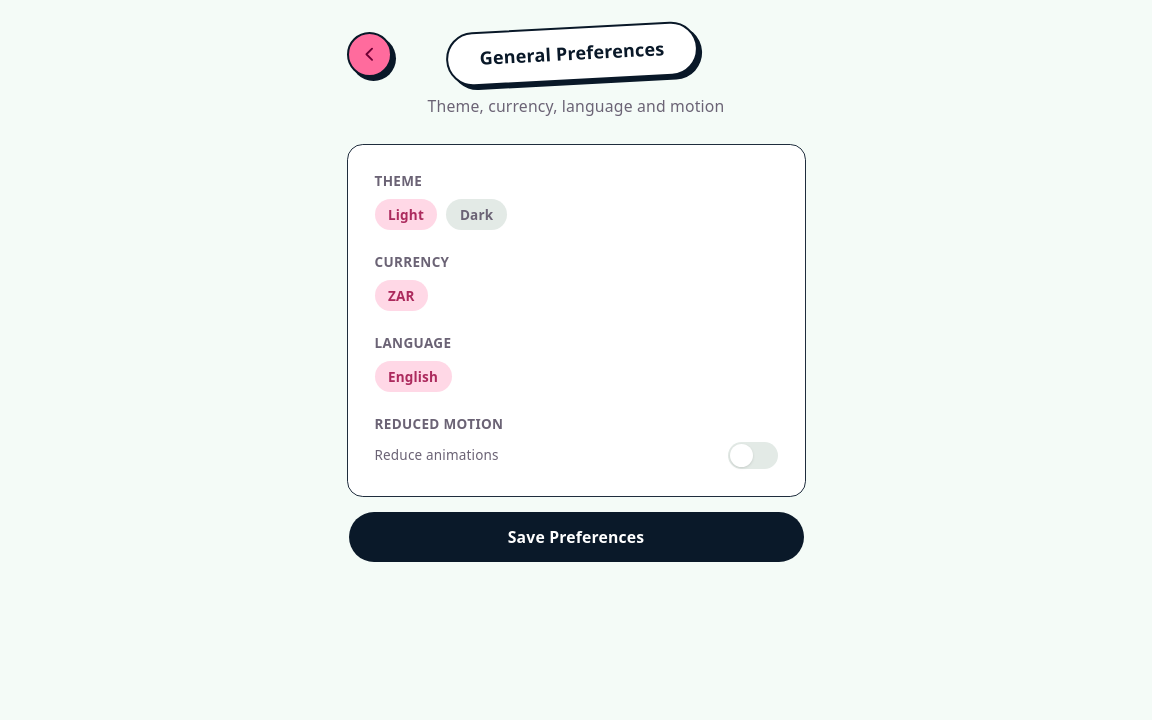
Test: SettingsPreferencesPage › saves the selected values through updatePreferences
Click the button "Dark" at point(477, 215), box [446, 199, 507, 230]
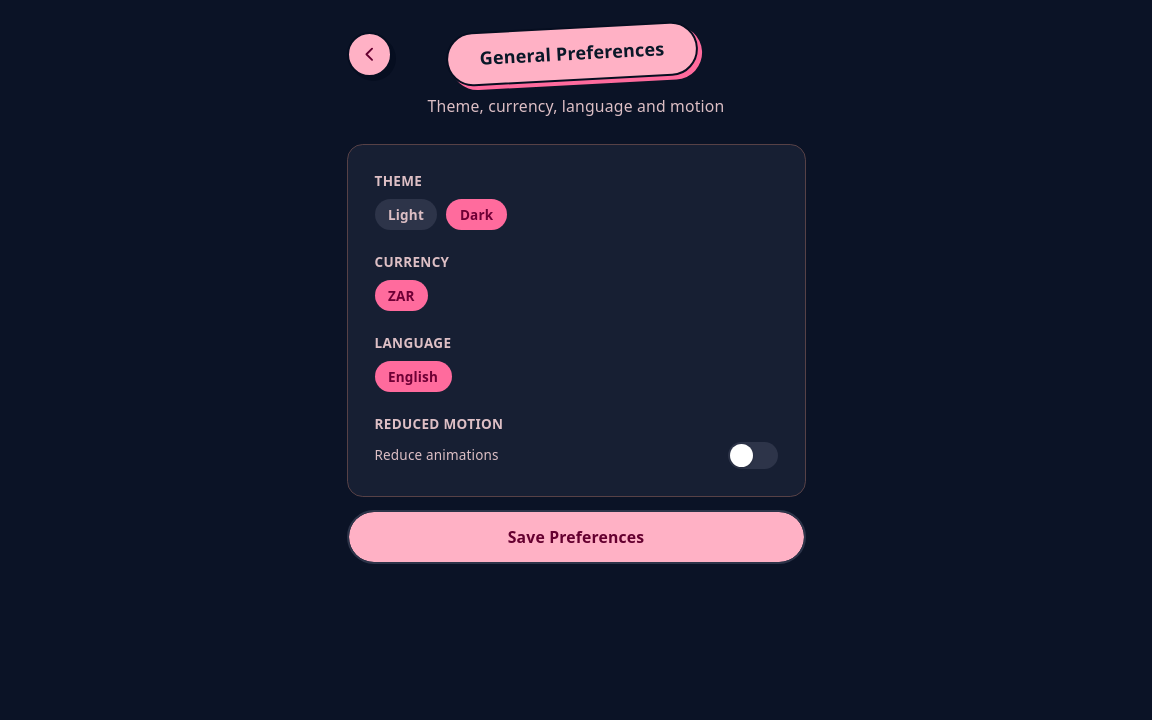
Click the switch named "reduced motion" at point(753, 455), box [728, 442, 778, 469]
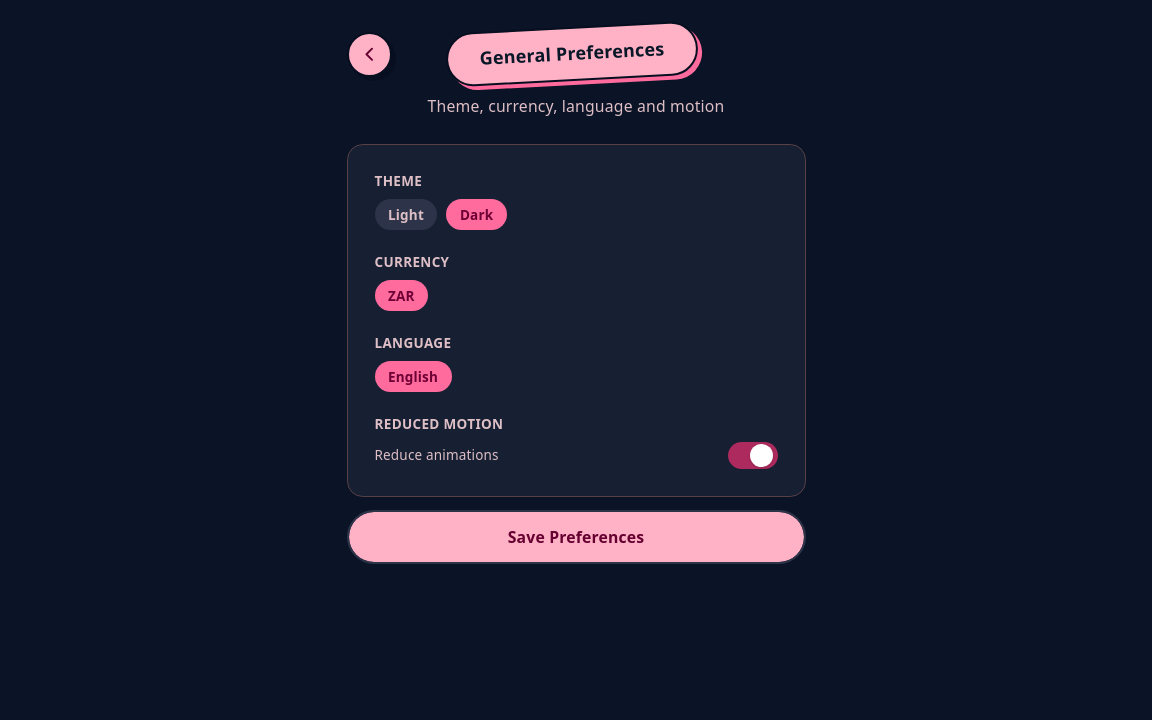
Click the button "Save Preferences" at point(576, 537), box [346, 510, 806, 564]
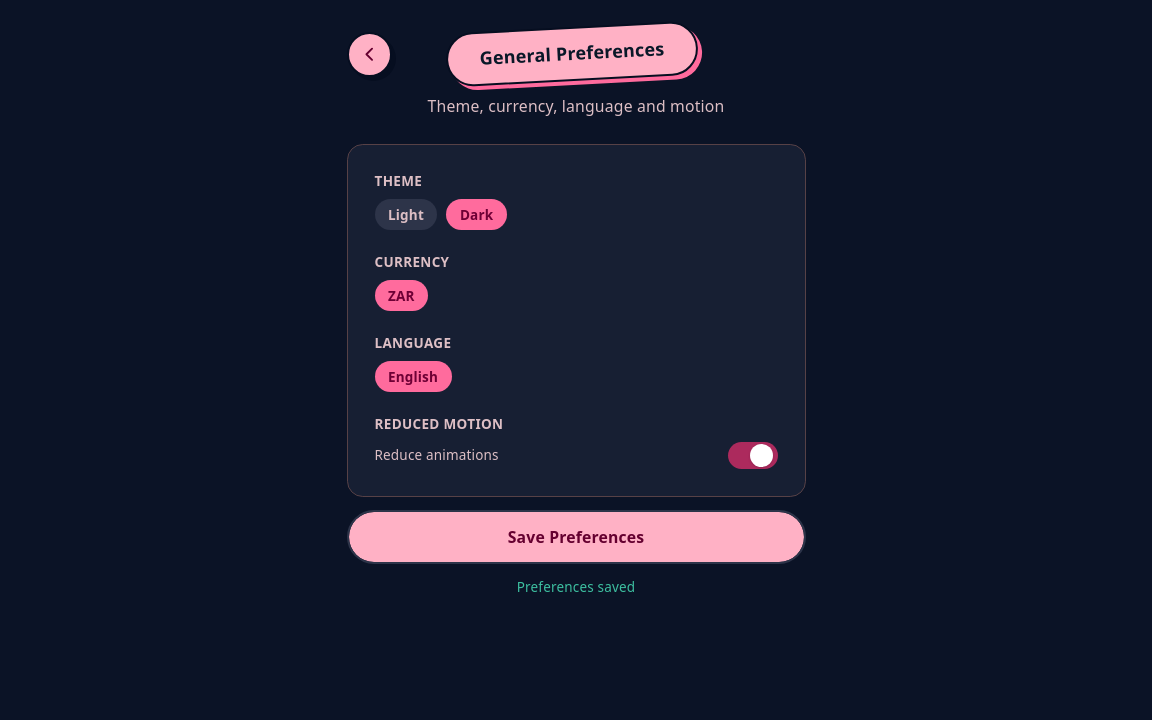
Expected: the text "Preferences saved" is shown, [517, 578, 635, 596]
